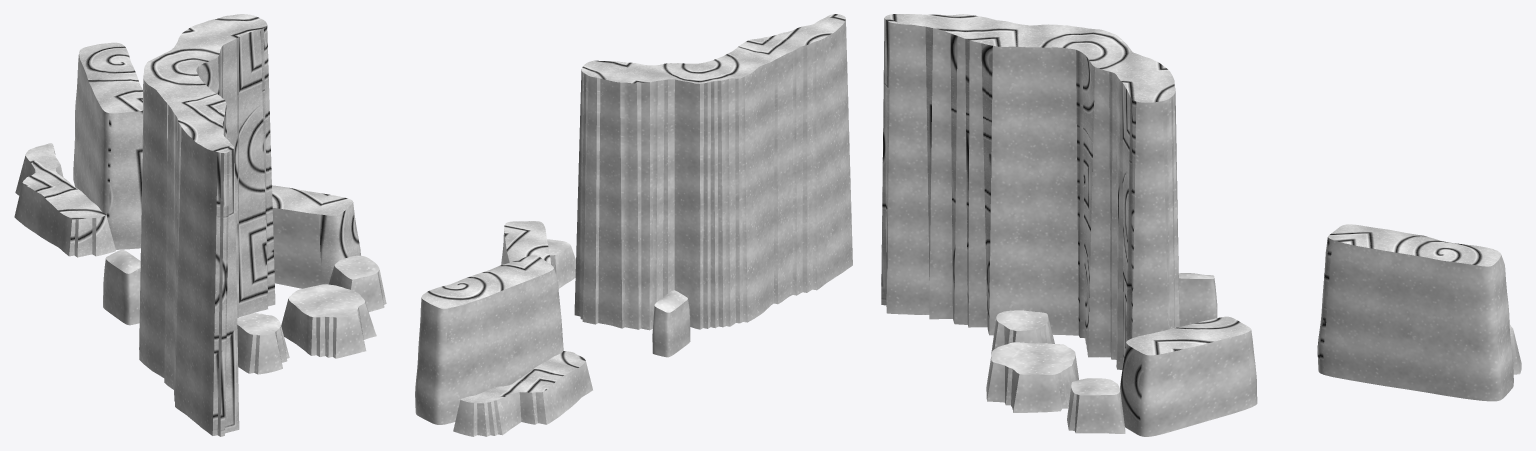
Rendered from CREHenge09.glb.
3 renders of one model, left to right at view 1: azimuth 30°, elevation 25°; view 2: azimuth 150°, elevation 25°; view 3: azimuth 270°, elevation 25°, orthographic. The views are drawn at different scales.
Parts seen in each view (by area): view 1: CREHenge09_tops; view 2: CREHenge09_tops; view 3: CREHenge09_tops.
Part boxes in pixels (x1,y1,x2,y2): CREHenge09_tops: (14,14,386,436); CREHenge09_tops: (415,14,852,436); CREHenge09_tops: (881,14,1521,436).
Size of the model in its own units: 3.22 by 3.17 by 6.36.
Materials: 2 (2 with a texture image).
